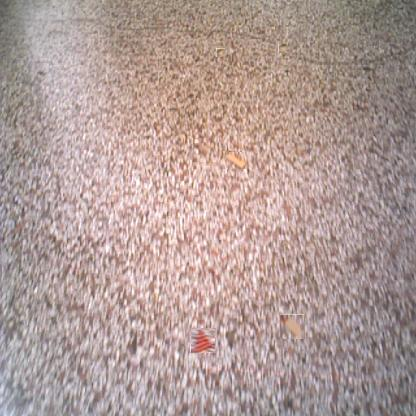dirty: (280, 314, 304, 339), (191, 328, 215, 352), (224, 151, 246, 169), (278, 43, 287, 53), (216, 48, 225, 57)
